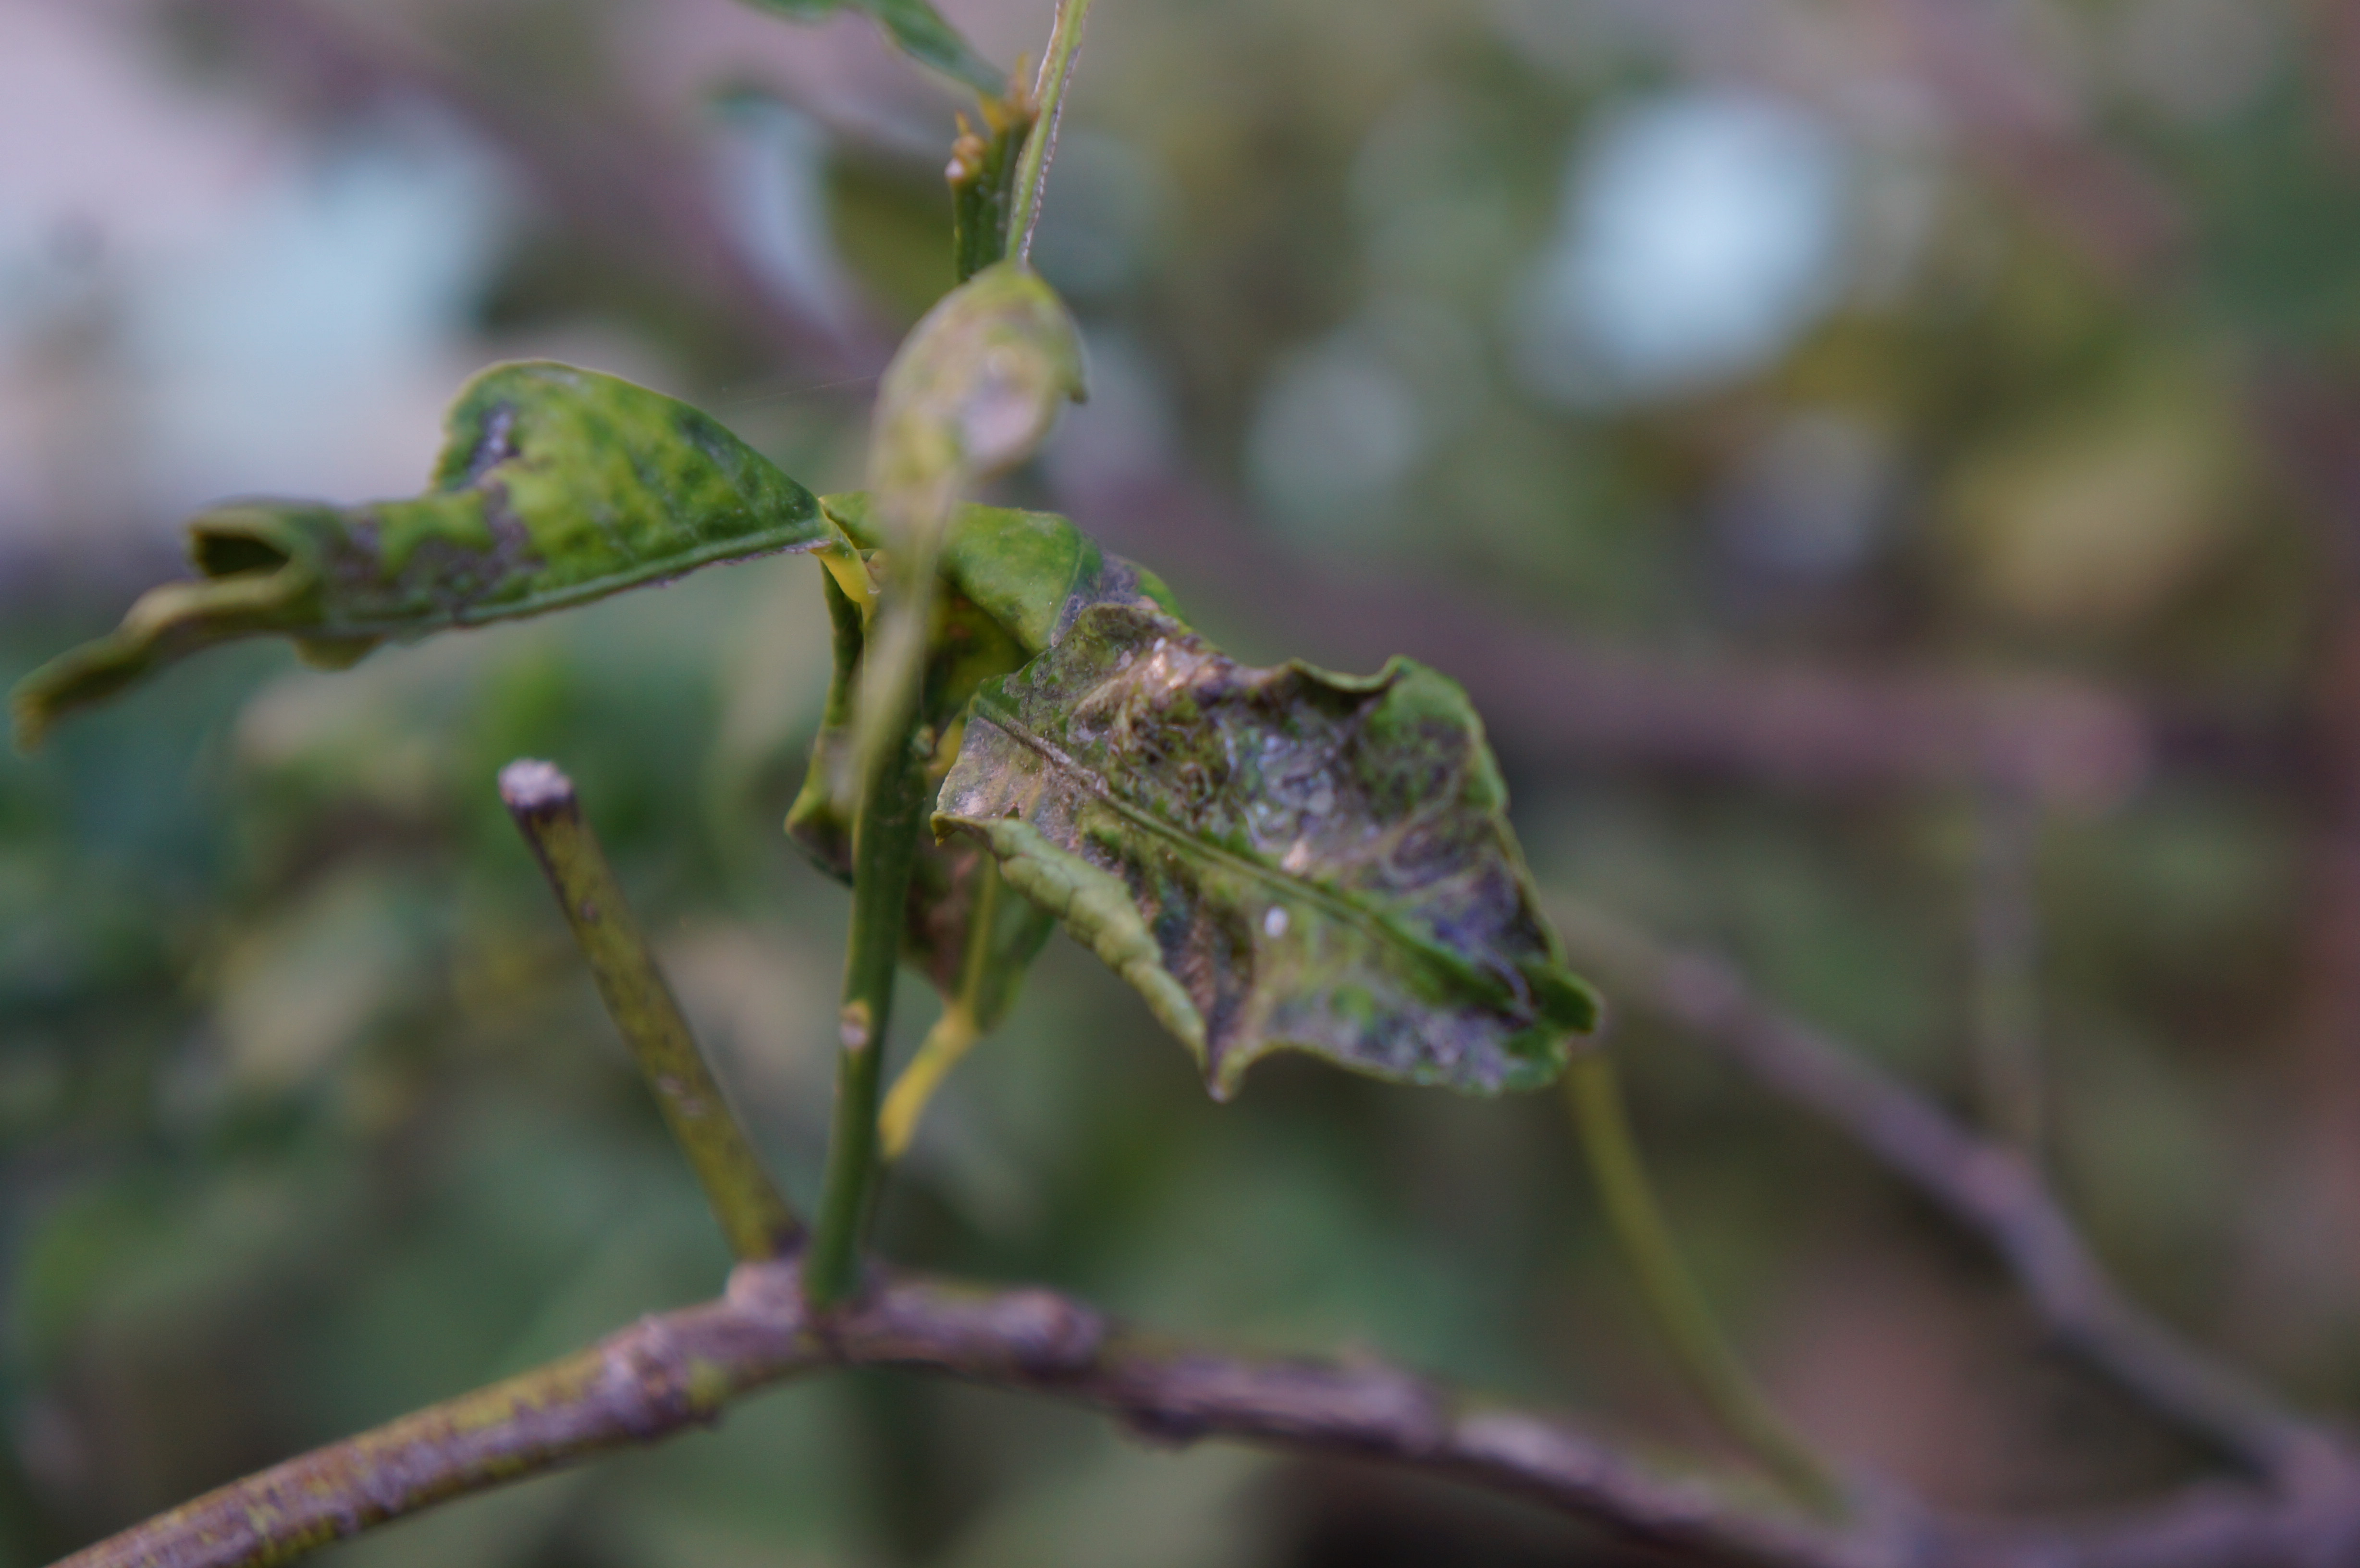curly: (0, 338, 827, 801)
damage: (910, 591, 1644, 1139)
